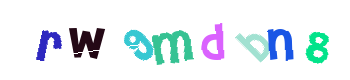8: (269, 0, 349, 80)
9: (133, 0, 213, 80)
B: (173, 0, 253, 80)
D: (134, 0, 214, 80)
M: (133, 0, 213, 80)
N: (184, 0, 264, 80)
R: (46, 0, 126, 80)
W: (111, 0, 191, 80)
